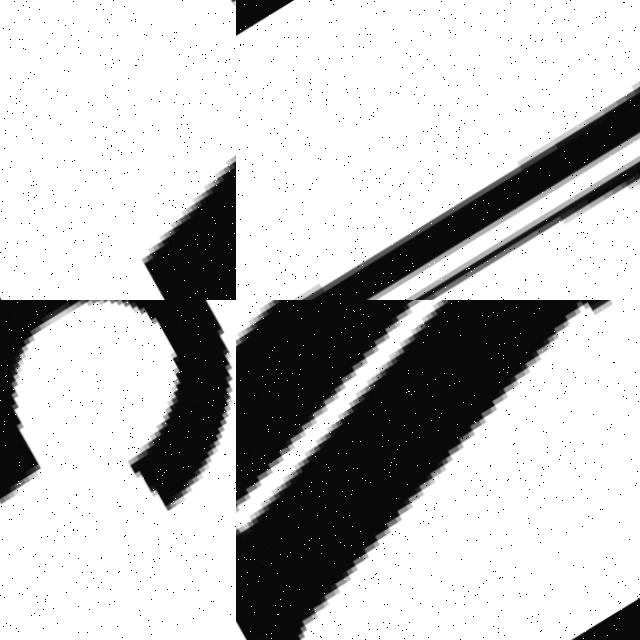1: (236, 13, 640, 300)
3: (0, 300, 236, 640)
H: (236, 300, 617, 640)
R: (0, 0, 236, 300)
